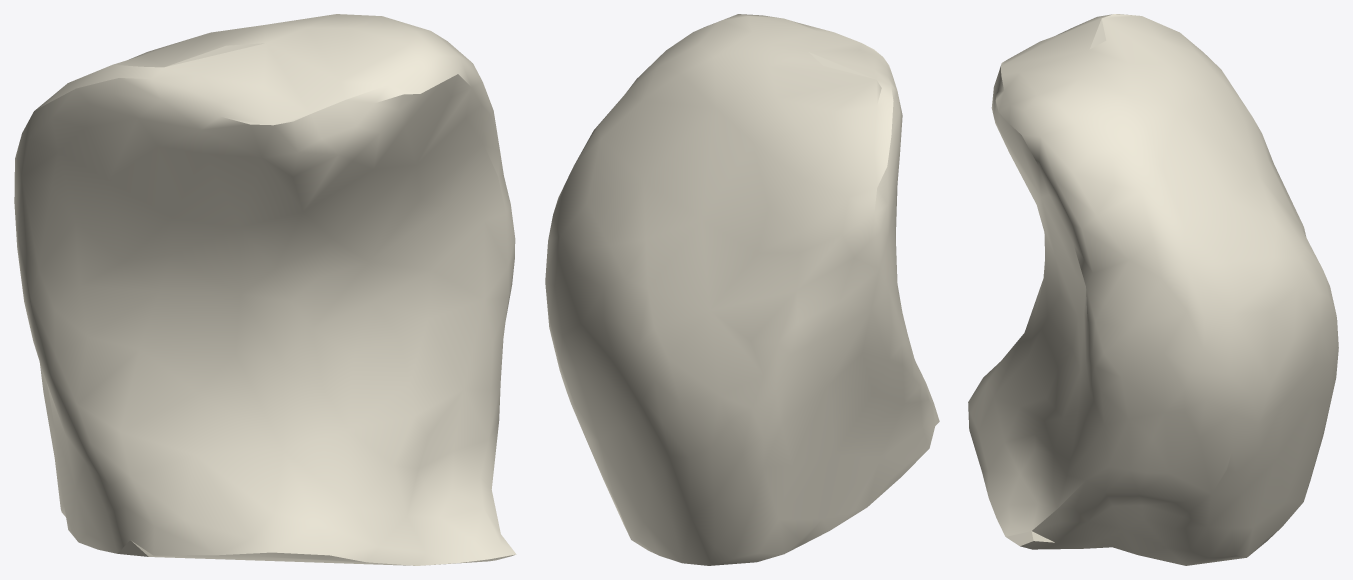
File: fma33752_mm1891.glb
The picture shows the model from 3 angles, left to right: view 1: azimuth 30°, elevation 25°; view 2: azimuth 150°, elevation 25°; view 3: azimuth 270°, elevation 25°; orthographic projection. The views are drawn at different scales.
Visible parts, largest first — view 1: FMA33752_MM1891; view 2: FMA33752_MM1891; view 3: FMA33752_MM1891.
Boxes of the visible parts, <box> form: FMA33752_MM1891: <box>14,14,516,565</box>; FMA33752_MM1891: <box>545,14,939,565</box>; FMA33752_MM1891: <box>968,14,1338,565</box>.
Bounding box in the file's own units: 0.0213 × 0.0267 × 0.0195.
